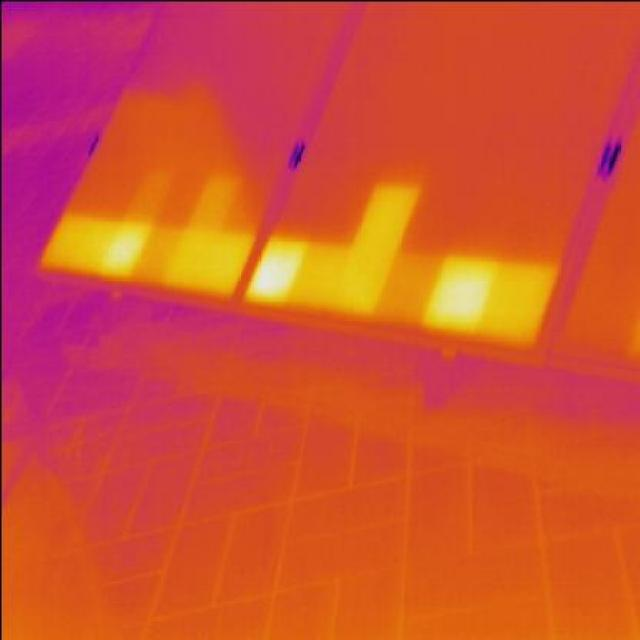hotspot: (426, 257, 496, 328), (46, 213, 102, 278), (346, 239, 392, 318), (355, 182, 414, 243), (249, 236, 303, 301), (168, 230, 222, 288), (300, 242, 346, 308), (190, 176, 235, 224), (105, 222, 144, 276)
